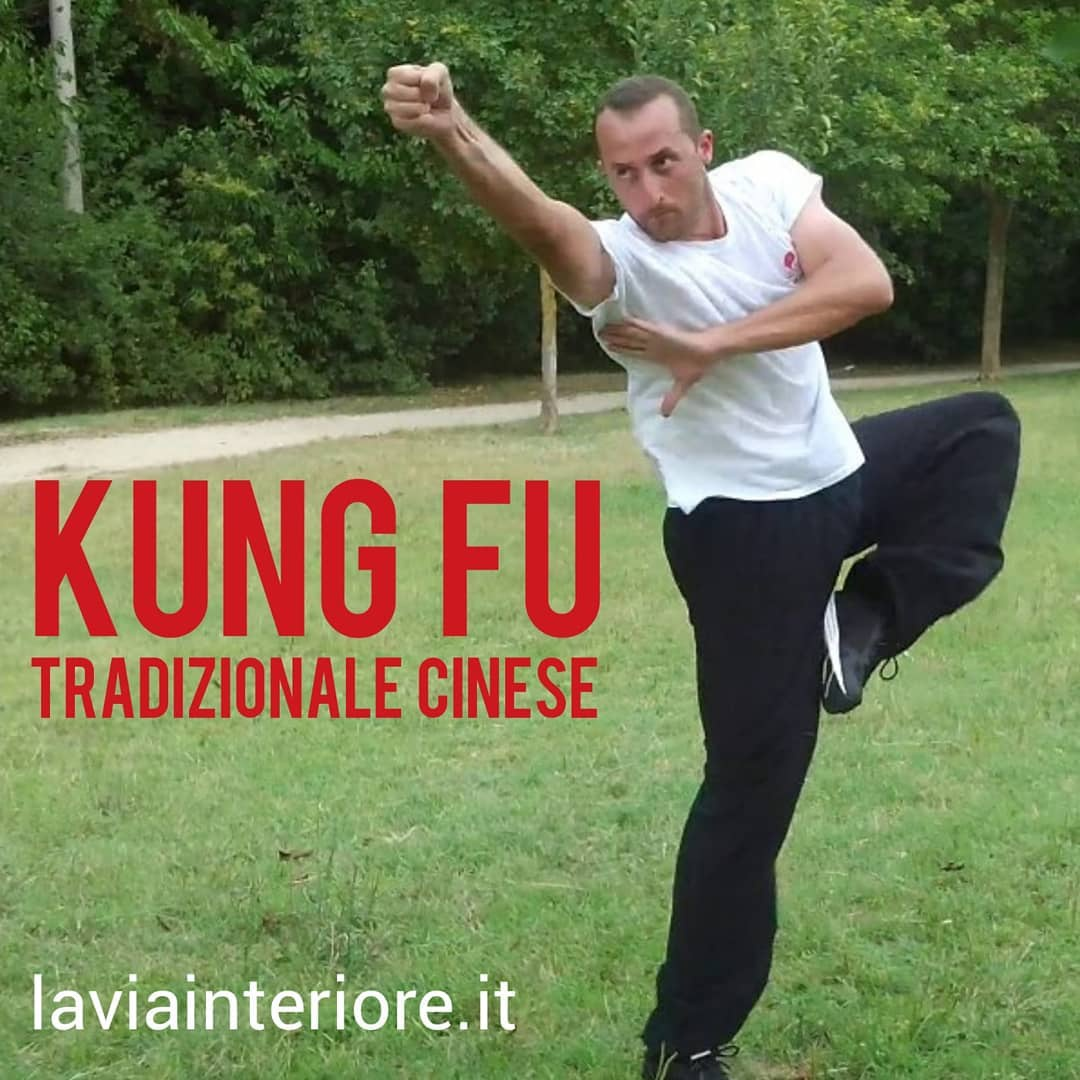hand: (602, 316, 708, 412)
